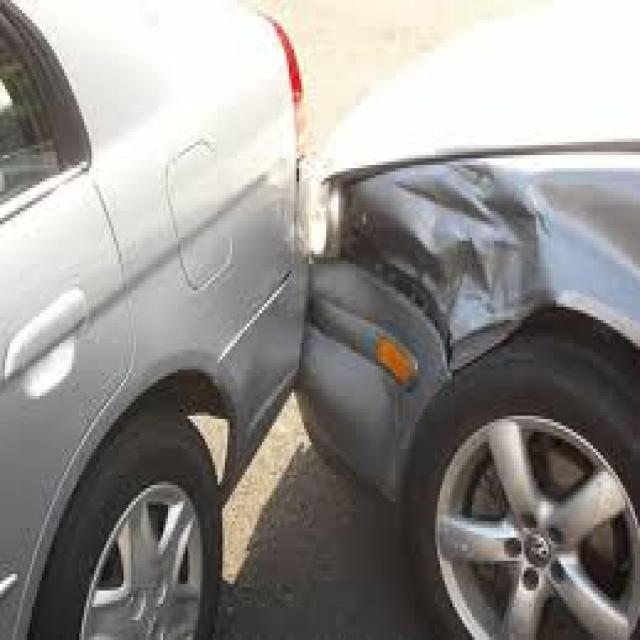accident: (162, 55, 634, 594)
